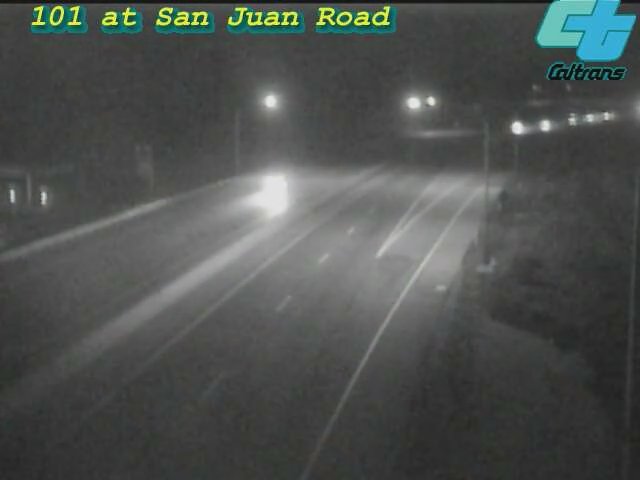vehicle: (233, 150, 313, 230), (583, 91, 633, 141), (565, 93, 615, 143), (548, 94, 598, 144), (522, 99, 572, 149), (493, 103, 543, 153)
